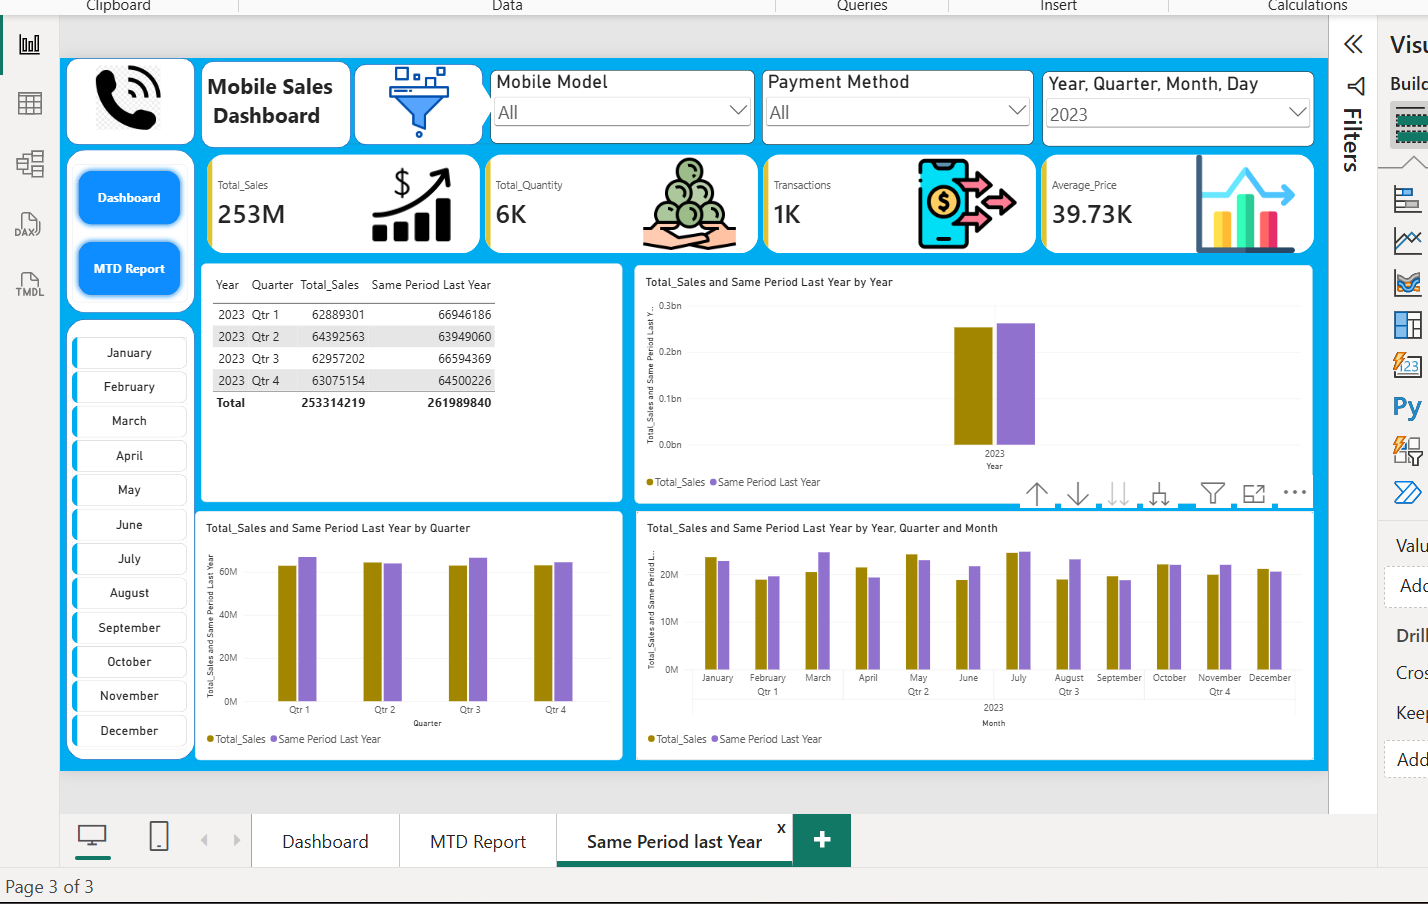

The dashboard page shown, as its layout file describes it:
{"tool":"powerbi","page":{"name":"Same Period last Year","canvas":[1920,1080],"ordinal":2},"visuals":[{"type":"shape","box":[9.1,0,195.3,131.7],"z":0},{"type":"shape","box":[9.1,138.5,195.3,247.6],"z":1000},{"type":"shape","box":[9.1,395.2,195.3,667.8],"z":2000},{"type":"advancedSlicerVisual","fields":{"Values":["Custom_Calendar.Date.Variation.Date Hierarchy.Month"]},"box":[18.2,422.5,174.9,624.6],"z":3000},{"type":"cardVisual","fields":{"Data":["Mobile_Sales_data.Total_Sales","Mobile_Sales_data.Total_Quantity","Mobile_Sales_data.Transactions","Mobile_Sales_data.Average_Price"]},"box":[222.6,129.5,1678.5,165.8],"z":4000},{"type":"slicer","fields":{"Values":["Mobile_Sales_data.Mobile Model"]},"box":[651.9,18.2,399.8,111.3],"z":5000},{"type":"slicer","fields":{"Values":["Mobile_Sales_data.Payment Method"]},"box":[1063,18.2,411.1,113.6],"z":6000},{"type":"slicer","fields":{"Values":["Custom_Calendar.Date.Variation.Date Hierarchy.Year","Custom_Calendar.Date.Variation.Date Hierarchy.Quarter","Custom_Calendar.Date.Variation.Date Hierarchy.Month","Custom_Calendar.Date.Variation.Date Hierarchy.Day"]},"box":[1487.7,20.4,411.1,113.6],"z":7000},{"type":"shape","box":[445.2,9.1,195.3,122.7],"z":8000},{"type":"image","box":[470.2,11.4,147.6,111.3],"z":9000},{"type":"shape","box":[613.3,34.1,45.4,75],"z":10000},{"type":"image","box":[13.6,11.4,179.4,97.7],"z":11000},{"type":"shape","box":[213.5,4.5,227.1,131.7],"z":12000},{"type":"textbox","box":[222.6,20.4,199.9,88.6],"z":13000},{"type":"tableEx","fields":{"Values":["Custom_Calendar.Date.Variation.Date Hierarchy.Year","Custom_Calendar.Date.Variation.Date Hierarchy.Quarter","Mobile_Sales_data.Total_Sales","Mobile_Sales_data.Same Period Last Year"]},"box":[213.5,311.2,638.2,361.1],"z":14000},{"type":"clusteredColumnChart","fields":{"Category":["Custom_Calendar.Date.Variation.Date Hierarchy.Year","Custom_Calendar.Date.Variation.Date Hierarchy.Quarter"],"Y":["Mobile_Sales_data.Total_Sales","Mobile_Sales_data.Same Period Last Year"]},"box":[869.9,313.4,1026.6,361.1],"z":15000},{"type":"clusteredColumnChart","fields":{"Category":["Custom_Calendar.Date.Variation.Date Hierarchy.Year","Custom_Calendar.Date.Variation.Date Hierarchy.Quarter","Custom_Calendar.Date.Variation.Date Hierarchy.Month","Custom_Calendar.Date.Variation.Date Hierarchy.Day"],"Y":["Mobile_Sales_data.Total_Sales","Mobile_Sales_data.Same Period Last Year"]},"box":[872.2,685.9,1026.6,377],"z":16000},{"type":"clusteredColumnChart","fields":{"Category":["Custom_Calendar.Date.Variation.Date Hierarchy.Year","Custom_Calendar.Date.Variation.Date Hierarchy.Quarter"],"Y":["Mobile_Sales_data.Total_Sales","Mobile_Sales_data.Same Period Last Year"]},"box":[204.4,685.9,647.3,377],"z":17000},{"type":"pageNavigator","box":[18.2,161.3,174.9,209],"z":17001}]}

Visuals, with their boxes on the page's 1920x1080 design canvas (x1, y1, x2, y2). These are canvas units, not pixel positions in the 1428x904 screenshot, which may show the page scaled, cropped or inside an application window:
shape: 9:0:204:132
shape: 9:138:204:386
shape: 9:395:204:1063
advancedSlicerVisual - Custom_Calendar.Date.Variation.Date Hierarchy.Month: 18:422:193:1047
cardVisual - Mobile_Sales_data.Total_Sales x Mobile_Sales_data.Total_Quantity: 223:130:1901:295
slicer - Mobile_Sales_data.Mobile Model: 652:18:1052:130
slicer - Mobile_Sales_data.Payment Method: 1063:18:1474:132
slicer - Custom_Calendar.Date.Variation.Date Hierarchy.Year x Custom_Calendar.Date.Variation.Date Hierarchy.Quarter: 1488:20:1899:134
shape: 445:9:640:132
image: 470:11:618:123
shape: 613:34:659:109
image: 14:11:193:109
shape: 214:4:441:136
textbox: 223:20:422:109
tableEx - Custom_Calendar.Date.Variation.Date Hierarchy.Year x Custom_Calendar.Date.Variation.Date Hierarchy.Quarter: 214:311:852:672
clusteredColumnChart - Custom_Calendar.Date.Variation.Date Hierarchy.Year x Custom_Calendar.Date.Variation.Date Hierarchy.Quarter: 870:313:1896:674
clusteredColumnChart - Custom_Calendar.Date.Variation.Date Hierarchy.Year x Custom_Calendar.Date.Variation.Date Hierarchy.Quarter: 872:686:1899:1063
clusteredColumnChart - Custom_Calendar.Date.Variation.Date Hierarchy.Year x Custom_Calendar.Date.Variation.Date Hierarchy.Quarter: 204:686:852:1063
pageNavigator: 18:161:193:370
